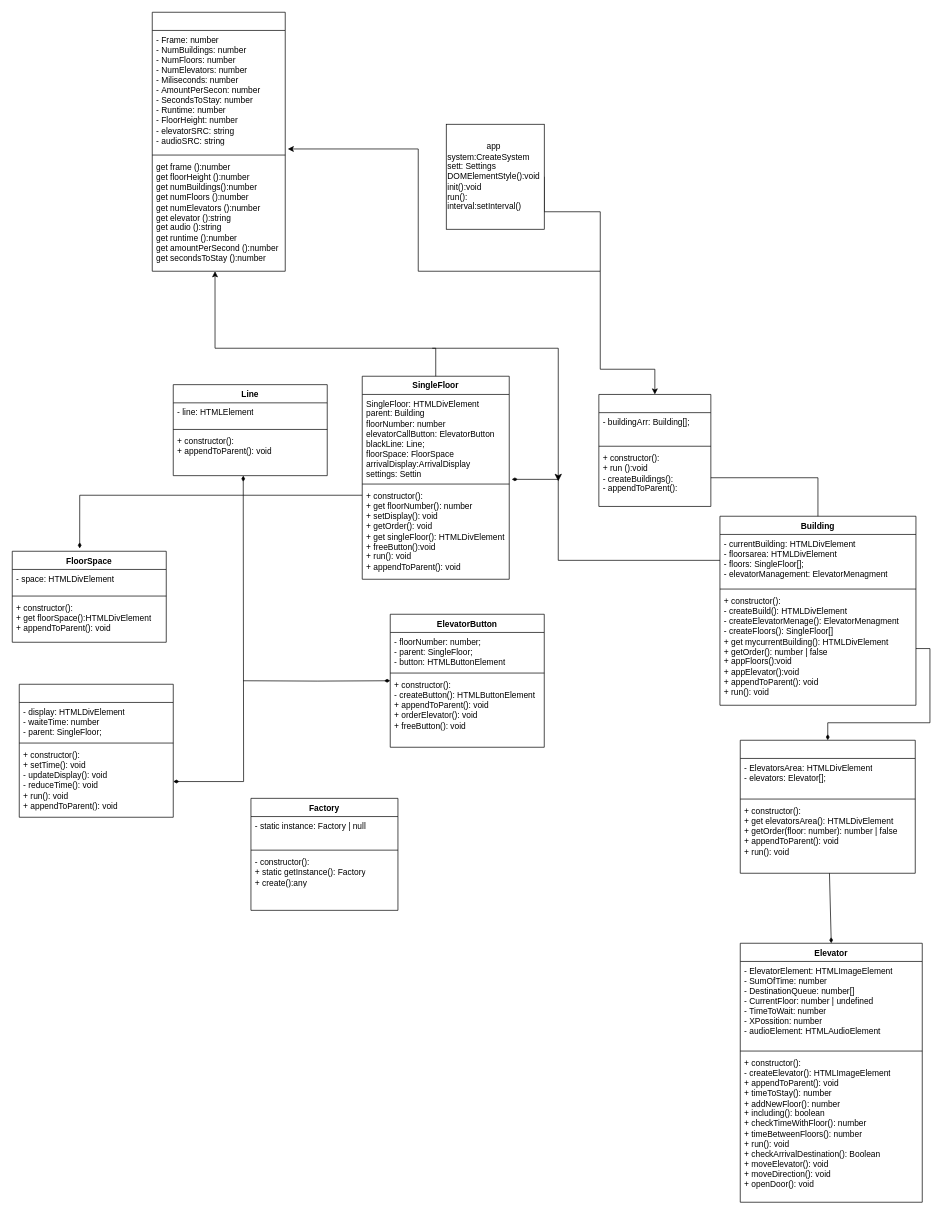
The diagram is 948 pixels wide and 1217 high, and some of its shapes have lost their labels. Each missing label, with the box of its shape:
ArrivalDisplay: (19, 684, 173, 817)
CreateSystem: (598, 394, 711, 506)
ElevatorMenagment: (740, 740, 915, 873)
Settings: (152, 12, 285, 271)
